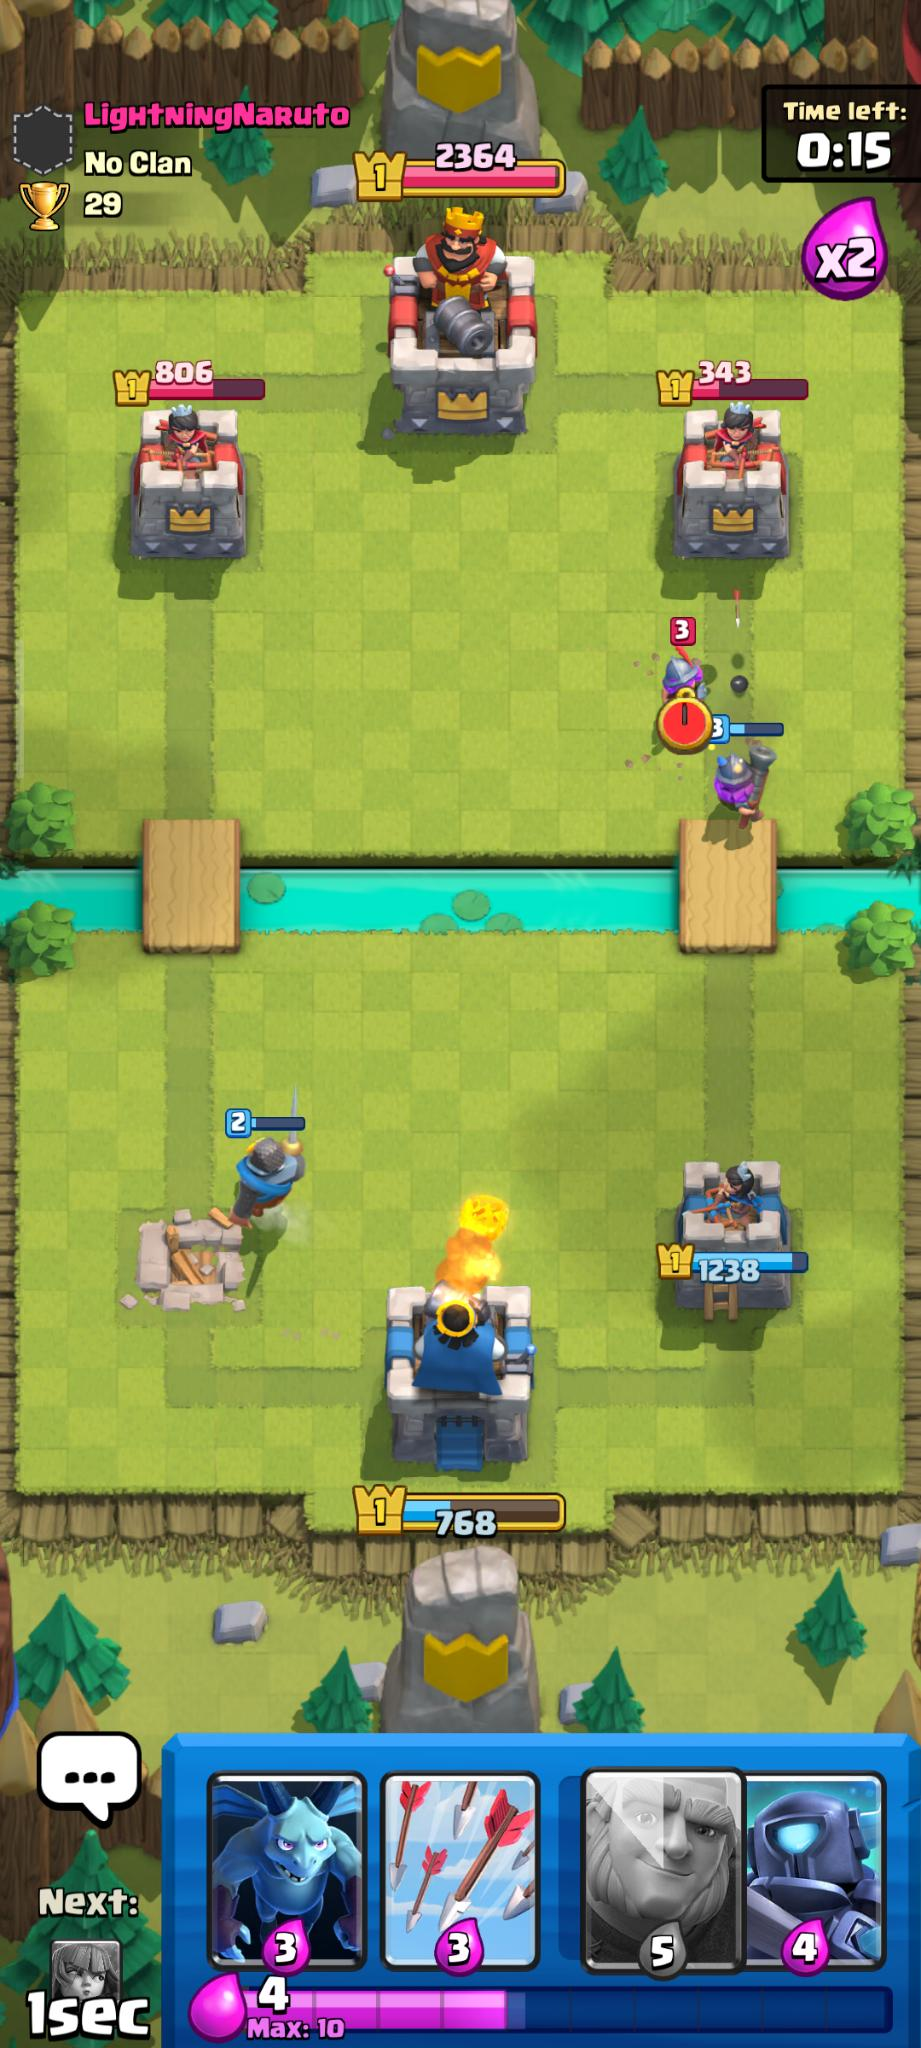chevalier: (231, 1109, 316, 1233)
mousquetaire: (703, 729, 779, 825), (662, 641, 719, 714)
